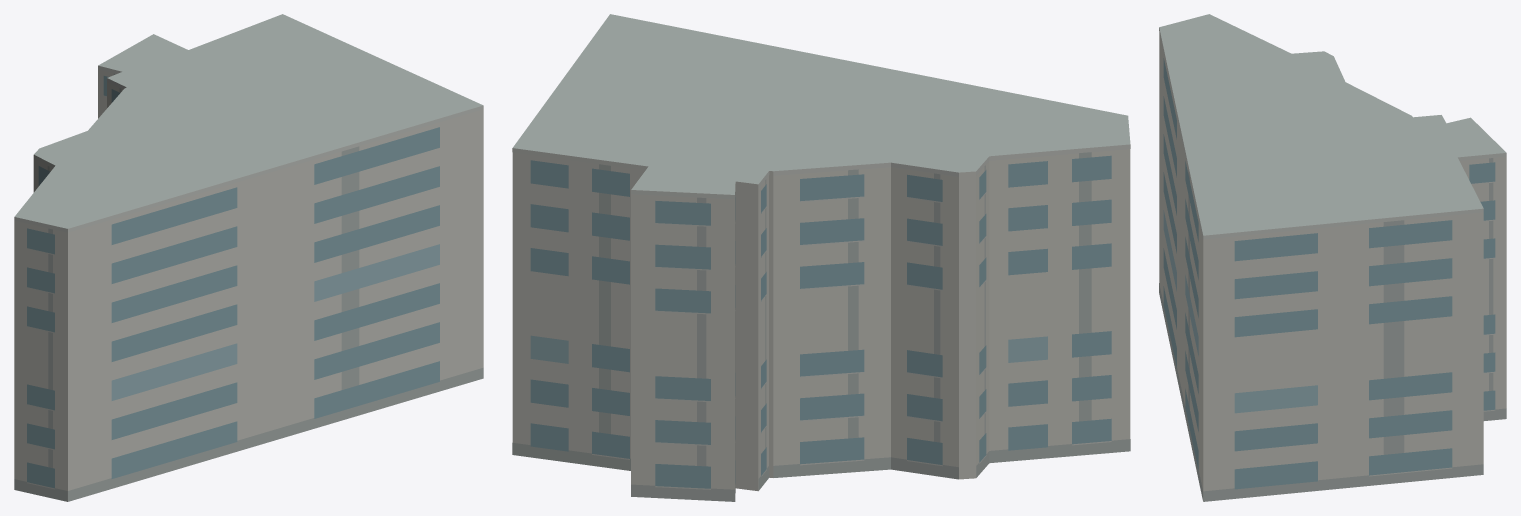
File: survey-upis-32856466.glb
The picture shows the model from 3 angles, left to right: view 1: azimuth 30°, elevation 25°; view 2: azimuth 150°, elevation 25°; view 3: azimuth 270°, elevation 25°; orthographic projection. The views are drawn at different scales.
Visible parts, largest first — view 1: survey-upis-32856466.tmp; view 2: survey-upis-32856466.tmp; view 3: survey-upis-32856466.tmp.
Part boxes in pixels (x1,y1,x2,y2): survey-upis-32856466.tmp: (14, 14, 483, 501); survey-upis-32856466.tmp: (512, 14, 1130, 501); survey-upis-32856466.tmp: (1159, 14, 1506, 501).
Bounding box in the file's own units: 30.02 × 16.8 × 19.89.
